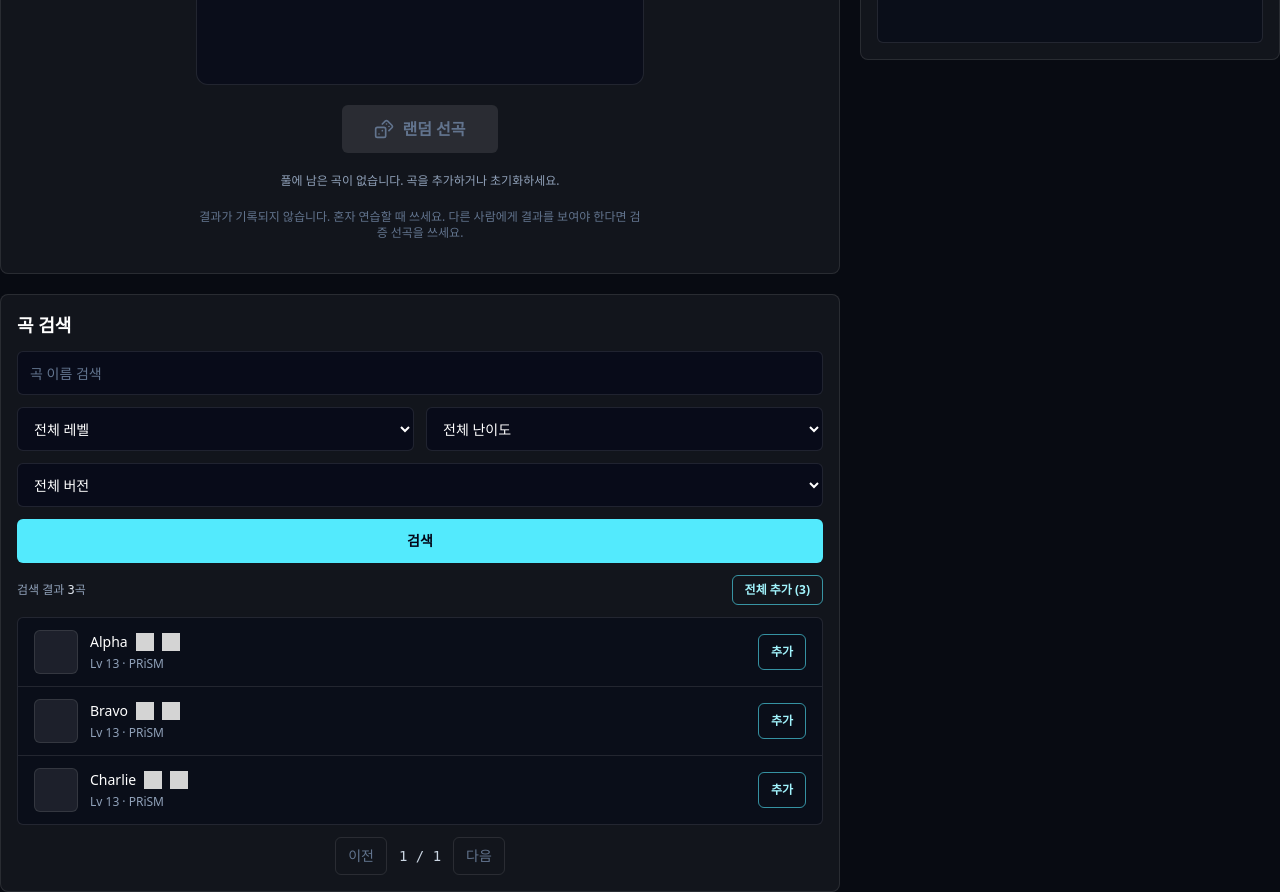
Test: RandomPicker › adds every search result to the pool at once
(page scrolled)
Click the button "전체 추가 (3)" at (777, 590), box 732,575 -> 823,605
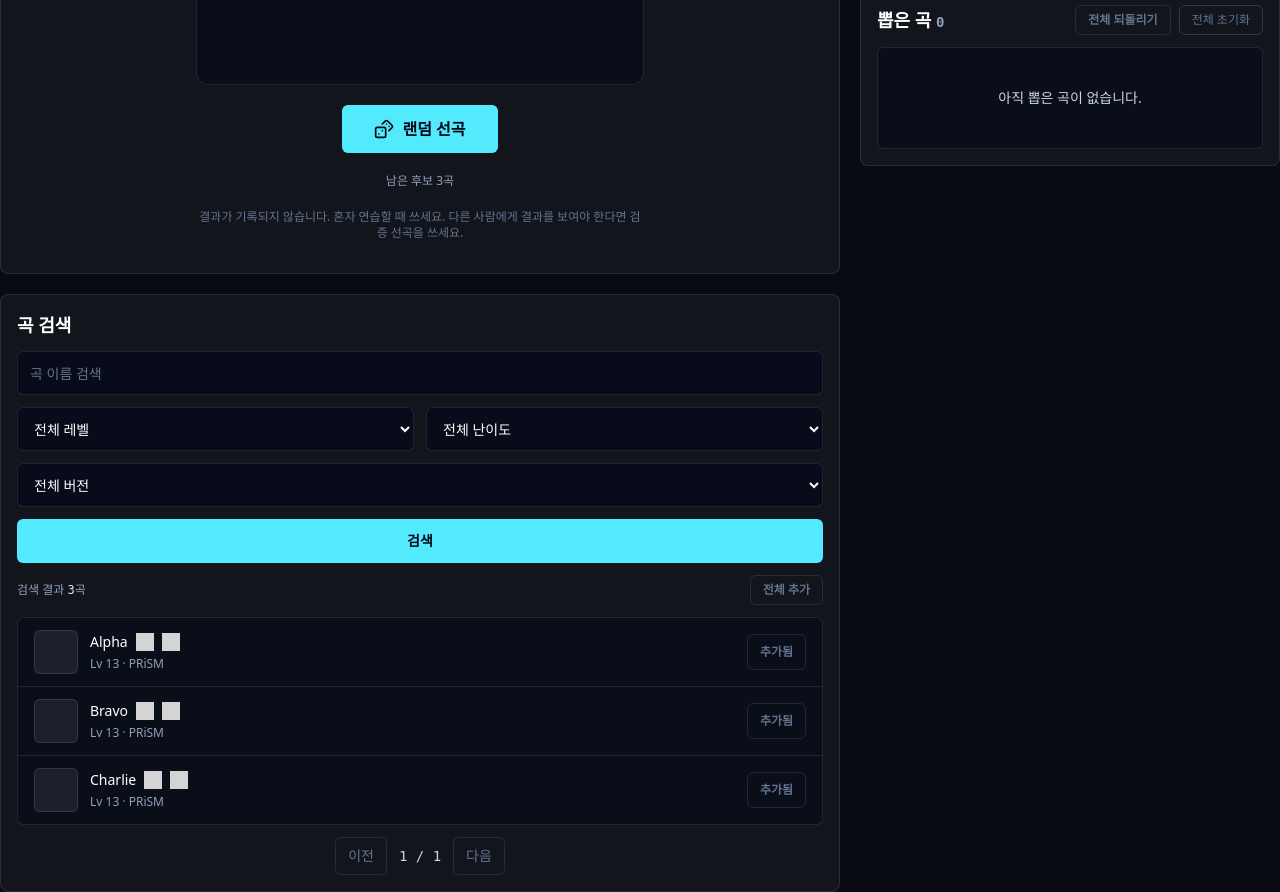
Now the button "전체 추가" is disabled, box 750,575 -> 823,605
